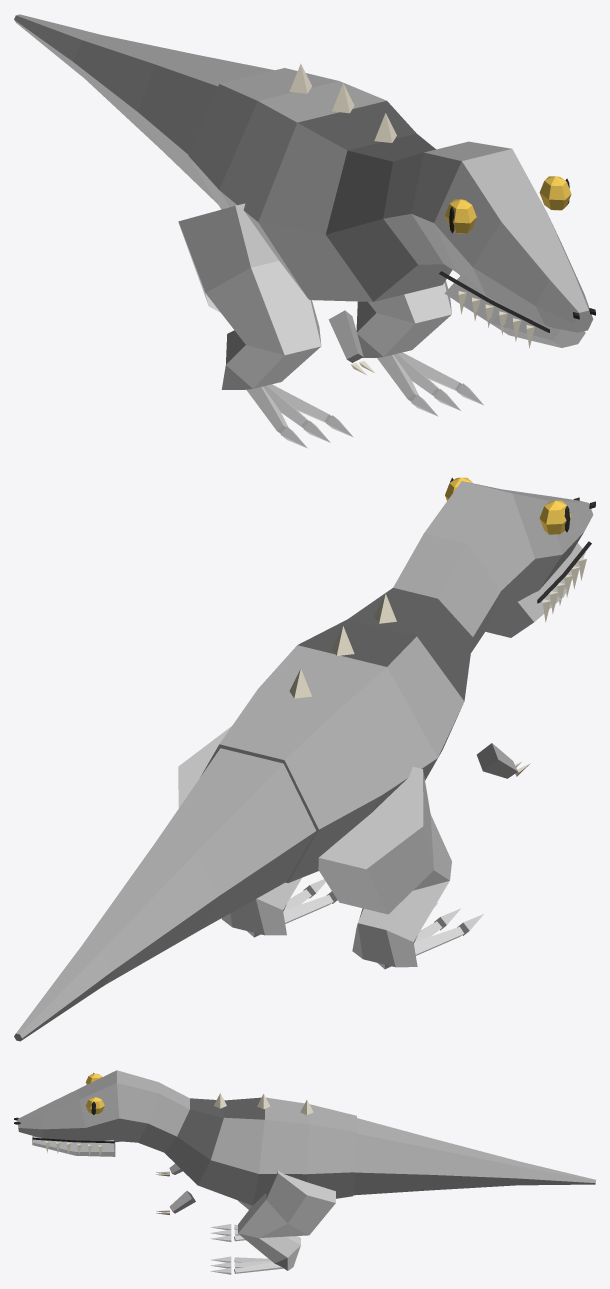
Rendered from biped.fbx.
3 renders of one model, top to bottom at view 1: azimuth 30°, elevation 25°; view 2: azimuth 150°, elevation 25°; view 3: azimuth 270°, elevation 25°, orthographic. The views are drawn at different scales.
Visible parts, largest first — view 1: biped_Body, biped_LegR, biped_Tail, biped_LegL, biped_Accent, biped_Eyes, biped_Dark; view 2: biped_Body, biped_Tail, biped_LegR, biped_LegL, biped_Accent, biped_Eyes; view 3: biped_Body, biped_Tail, biped_LegL, biped_Accent, biped_LegR, biped_Eyes, biped_Dark.
Boxes of the visible parts, box(x1,y1,x2,y2) form: biped_Body: box(188, 68, 593, 362); biped_LegR: box(178, 203, 353, 448); biped_Tail: box(14, 14, 274, 203); biped_LegL: box(356, 280, 483, 416); biped_Accent: box(289, 63, 534, 375); biped_Eyes: box(445, 176, 571, 233); biped_Dark: box(439, 178, 595, 332); biped_Body: box(201, 481, 593, 882); biped_Tail: box(14, 748, 316, 1041); biped_LegR: box(318, 767, 483, 969); biped_LegL: box(178, 726, 337, 937); biped_Accent: box(289, 558, 586, 776); biped_Eyes: box(445, 477, 571, 534); biped_Body: box(17, 1070, 356, 1213); biped_Tail: box(353, 1118, 595, 1195); biped_LegL: box(210, 1171, 335, 1274); biped_Accent: box(45, 1093, 313, 1214); biped_LegR: box(210, 1200, 251, 1241); biped_Eyes: box(85, 1073, 104, 1114); biped_Dark: box(14, 1073, 114, 1143).
Bounding box in the file's own units: 3 × 4.04 × 12.09.
